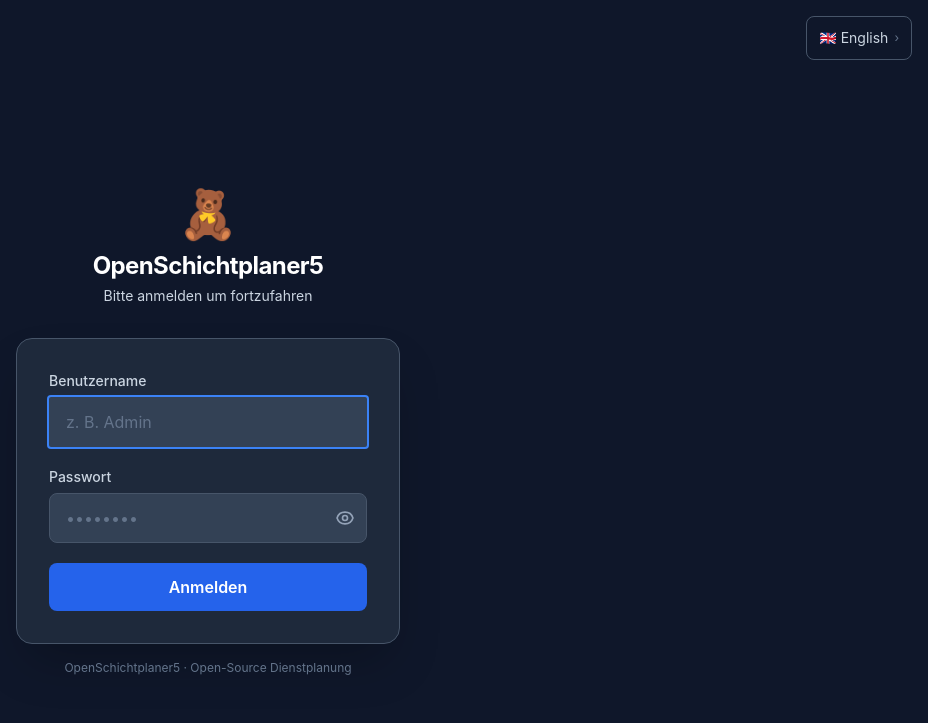
Test case: Login page › shows error message when login fails
Type "admin" into the field with placeholder "z. B. Admin".
click(208, 422); type("admin")  # box [49,397,367,447]
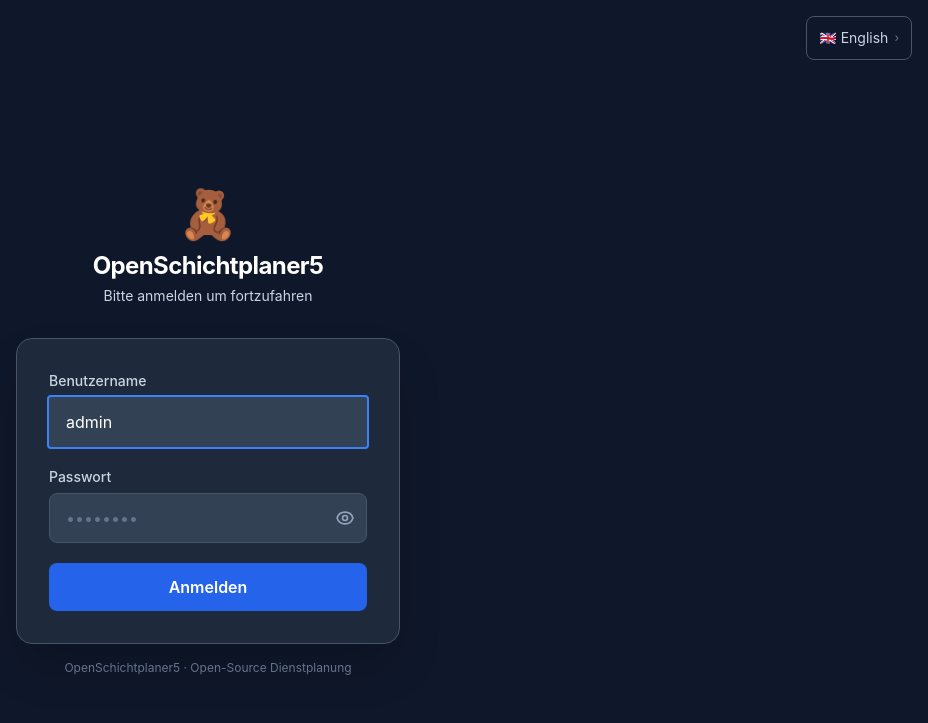
Click the button "Anmelden".
click(208, 587)  # box [49,563,367,611]
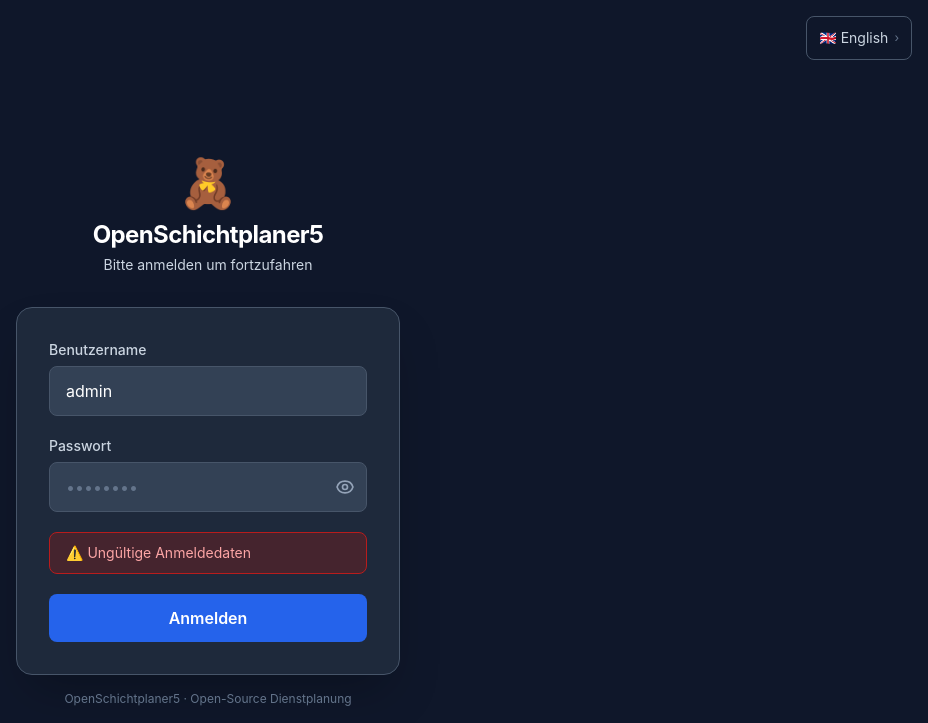
Check: the text "⚠️ Ungültige Anmeldedaten" is shown, box [49,532,367,574]
